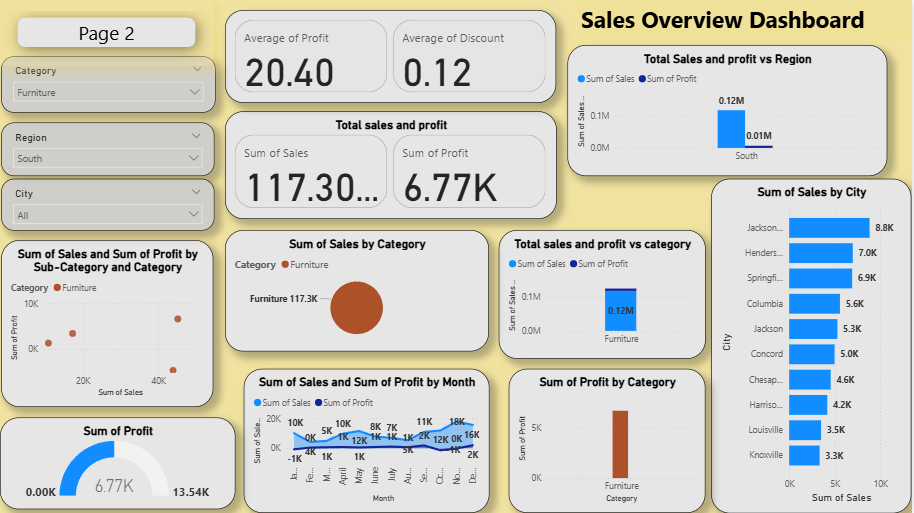

What the dashboard file says about the page in this screenshot:
{"tool":"powerbi","page":{"name":"Page 1","canvas":[1280,720],"ordinal":0},"visuals":[{"type":"cardVisual","title":"Total sales and profit","fields":{"Data":["Sum(Superstore.Sales)","Sum(Superstore.Profit)"]},"box":[316.1,155.6,465.7,150.8],"z":0},{"type":"cardVisual","fields":{"Data":["Avg(Superstore.Profit)","Avg(Superstore.Discount)"]},"box":[315.6,13.7,465.2,130.4],"z":1000},{"type":"textbox","box":[810.7,0,469.3,54.3],"z":2000},{"type":"clusteredColumnChart","title":"Total Sales and profit vs Region","fields":{"Category":["Superstore.Region"],"Y":["Sum(Superstore.Sales)","Sum(Superstore.Profit)"]},"box":[797.3,63.1,448.7,183.9],"z":3000},{"type":"columnChart","title":"Total sales and profit vs category","fields":{"Category":["Superstore.Category"],"Y":["Sum(Superstore.Sales)","Sum(Superstore.Profit)"]},"box":[699.7,323.3,290.8,181],"z":4000},{"type":"pieChart","fields":{"Y":["Sum(Superstore.Sales)"],"Category":["Superstore.Category"]},"box":[316.1,323.3,370.4,170.1],"z":5000},{"type":"areaChart","fields":{"Y":["Sum(Superstore.Sales)","Sum(Superstore.Profit)"],"Category":["Superstore.Order Date.Variation.Date Hierarchy.Year","Superstore.Order Date.Variation.Date Hierarchy.Quarter","Superstore.Order Date.Variation.Date Hierarchy.Month","Superstore.Order Date.Variation.Date Hierarchy.Day"]},"box":[341.4,517.6,345,202.7],"z":6000},{"type":"barChart","fields":{"Category":["Superstore.City"],"Y":["Sum(Superstore.Sales)"]},"box":[998.9,250.9,281.1,469.3],"z":7000},{"type":"scatterChart","fields":{"X":["Sum(Superstore.Sales)"],"Y":["Sum(Superstore.Profit)"],"Category":["Superstore.Sub-Category"],"Series":["Superstore.Category"]},"box":[1.4,337.6,297.8,234.6],"z":8000},{"type":"ribbonChart","fields":{"Y":["Sum(Superstore.Profit)"],"Category":["Superstore.Category"]},"box":[714.2,517.6,276.3,202.7],"z":9000},{"type":"gauge","fields":{"Y":["Sum(Superstore.Profit)"]},"box":[0,585.1,330.6,129.1],"z":10000},{"type":"slicer","fields":{"Values":["Superstore.Category"]},"box":[1.4,79.6,300.5,79.6],"z":11000},{"type":"slicer","fields":{"Values":["Superstore.Region"]},"box":[1.4,171.5,299.1,75.5],"z":12000},{"type":"slicer","fields":{"Values":["Superstore.City"]},"box":[1.4,251.1,299.1,72.7],"z":13000},{"type":"pageNavigator","box":[0,0,299.1,91.9],"z":14000}]}

Visuals, with their boxes in screenshot pixels (x1, y1, x2, y2), scaled from the page's 1280x720 canvas onto the 914x513 screenshot:
"Total sales and profit" cardVisual: BBox(226, 111, 558, 218)
cardVisual - Avg(Superstore.Profit) x Avg(Superstore.Discount): BBox(225, 10, 558, 103)
textbox: BBox(579, 0, 913, 39)
"Total Sales and profit vs Region" clusteredColumnChart: BBox(569, 45, 890, 176)
"Total sales and profit vs category" columnChart: BBox(500, 230, 707, 359)
pieChart - Sum(Superstore.Sales) x Superstore.Category: BBox(226, 230, 490, 352)
areaChart - Sum(Superstore.Sales) x Sum(Superstore.Profit): BBox(244, 369, 490, 512)
barChart - Superstore.City x Sum(Superstore.Sales): BBox(713, 179, 913, 512)
scatterChart - Sum(Superstore.Sales) x Sum(Superstore.Profit): BBox(1, 241, 214, 408)
ribbonChart - Sum(Superstore.Profit) x Superstore.Category: BBox(510, 369, 707, 512)
gauge - Sum(Superstore.Profit): BBox(0, 417, 236, 509)
slicer - Superstore.Category: BBox(1, 57, 216, 113)
slicer - Superstore.Region: BBox(1, 122, 215, 176)
slicer - Superstore.City: BBox(1, 179, 215, 231)
pageNavigator: BBox(0, 0, 214, 65)
